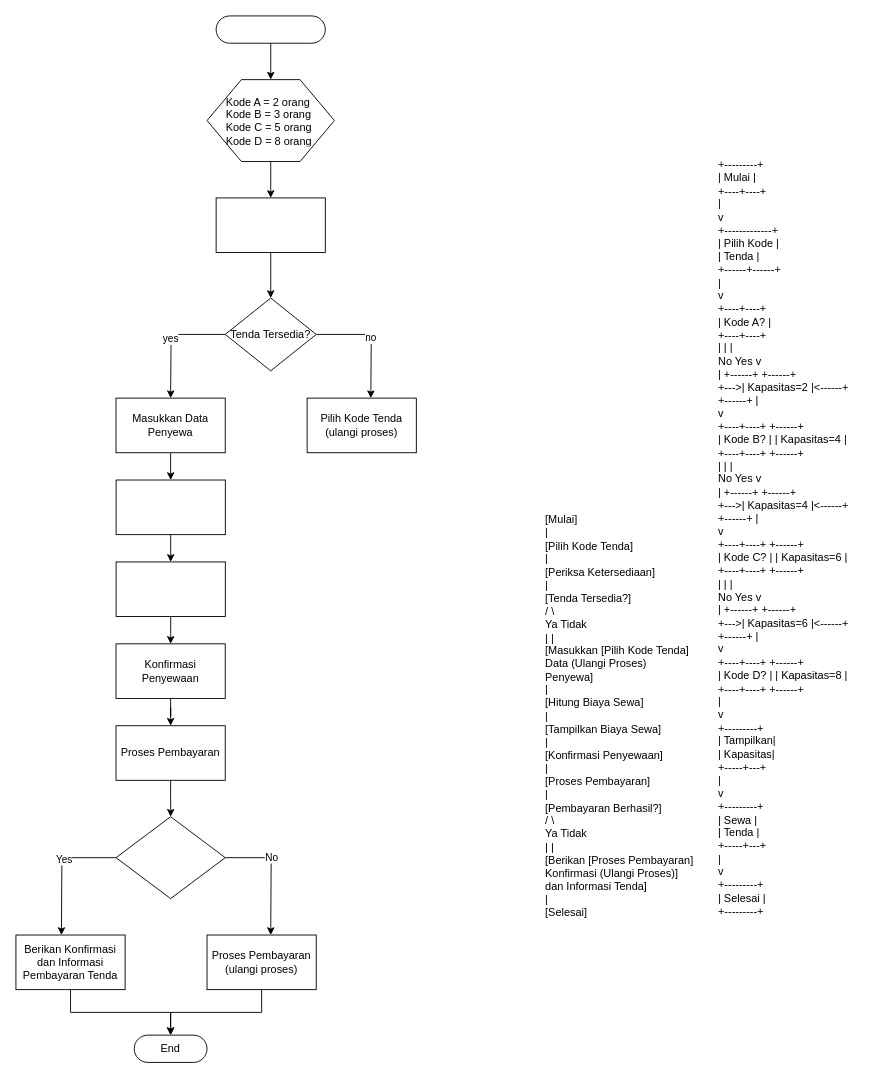
The diagram is 896 pixels wide and 1078 high, and some of its shapes have lost their labels. The shapes that lost their labels are listed below. From the top down, each one's centre as x and y in pixels, then its label:
At point (270, 29): "Start".
At point (270, 225): "Pilih Kode Tenda".
At point (170, 507): "Hitung Biaya".
At point (170, 589): "Tampilkan Biaya Sewa".
At point (170, 857): "Pembayaran berhasil?".
